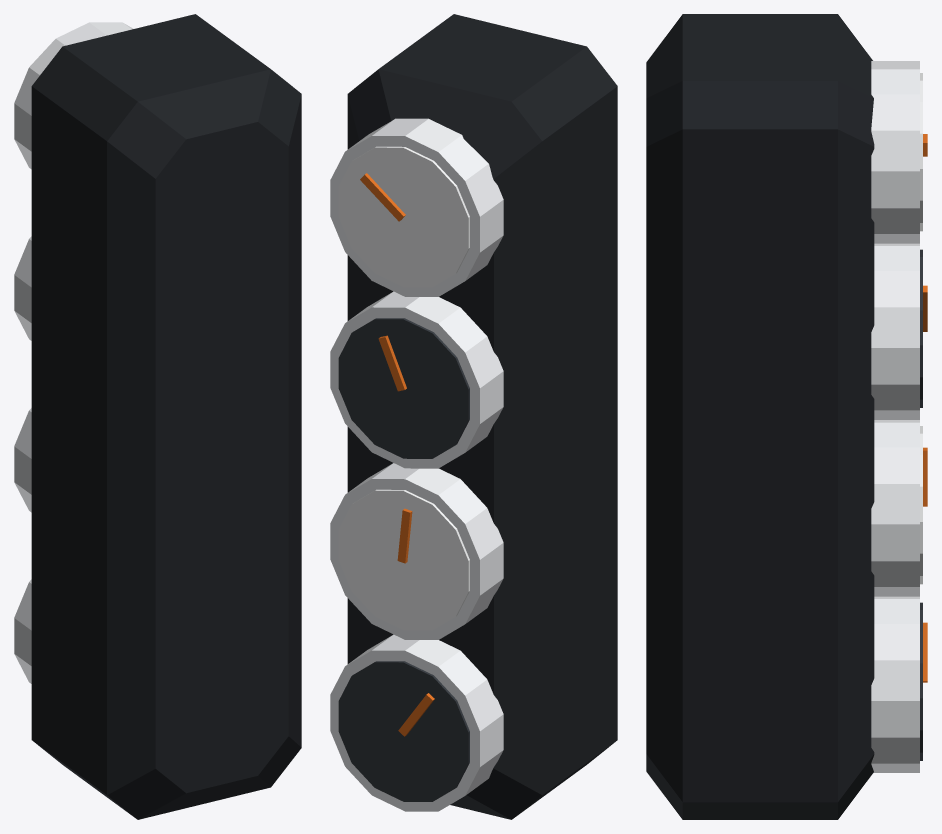
Rendered from apex_v8.glb.
3 views of the same model, side by side, from view 1: azimuth 30°, elevation 25°; view 2: azimuth 150°, elevation 25°; view 3: azimuth 270°, elevation 25° (orthographic). The views are drawn at different scales.
Visible parts, largest first — view 1: model; view 2: model; view 3: model.
Boxes of the visible parts, x1,y1,x2,y2 form: model: [14, 14, 301, 819]; model: [330, 14, 617, 819]; model: [646, 14, 927, 819].
Size of the model in its own units: 0.076 by 0.268 by 0.0925.
Materials: 2 (1 with a texture image).
